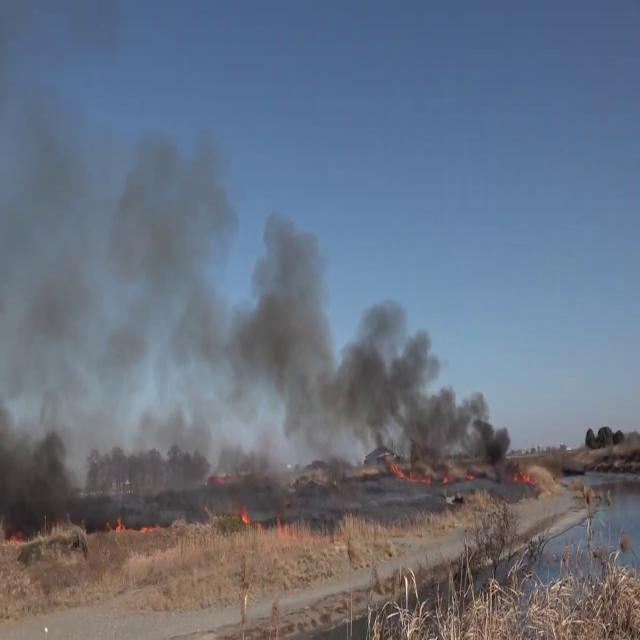Smoke: (5, 89, 231, 502), (208, 212, 518, 489)
